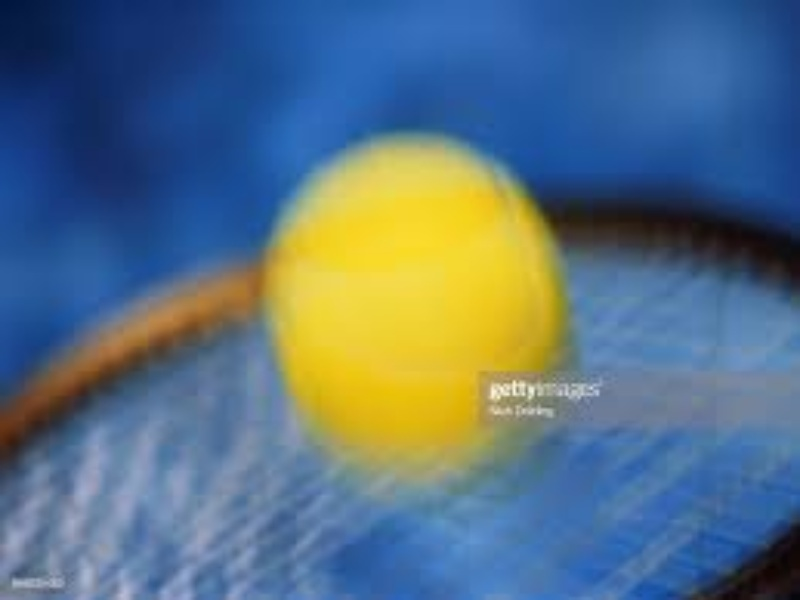tennis ball: (253, 117, 602, 445)
